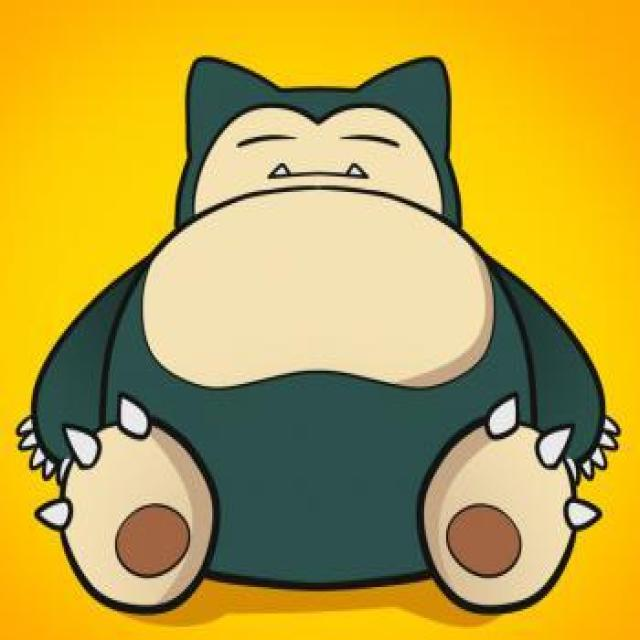Snorlax: (108, 52, 514, 604)
